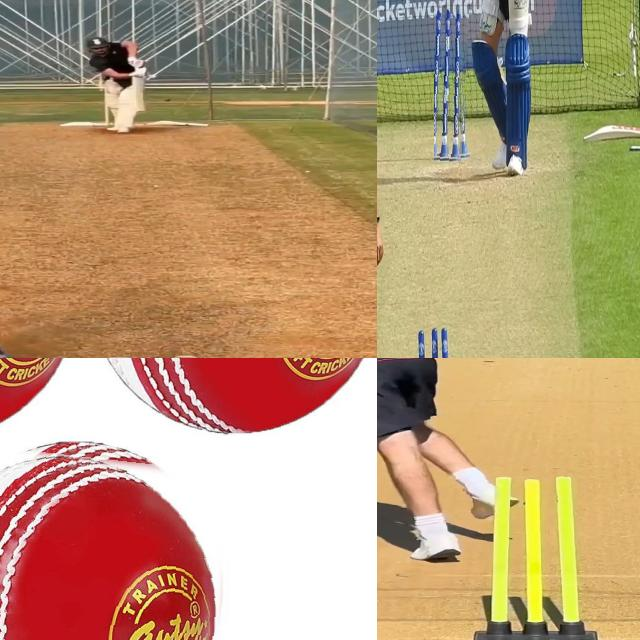Cricket ball: (0, 439, 233, 640), (82, 358, 377, 439)
Stumps: (434, 6, 469, 162)
